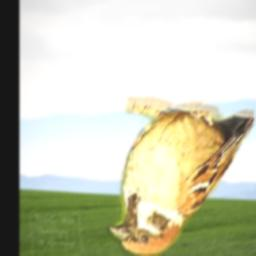Sparrow: (106, 98, 254, 256)
